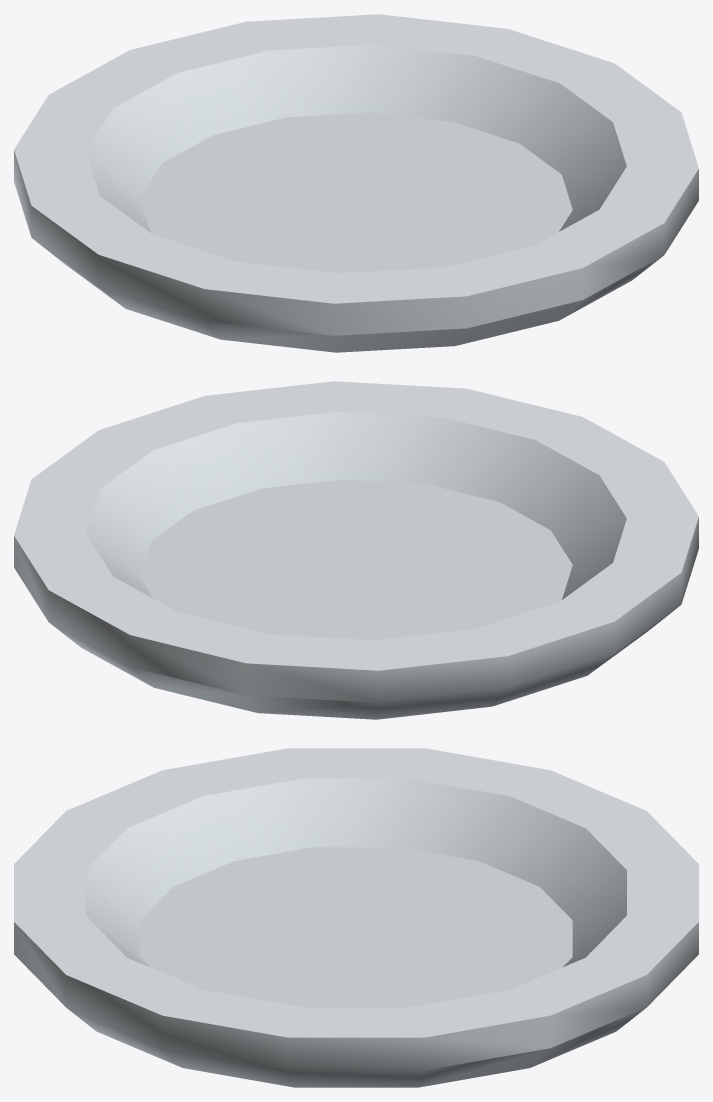
File: plate.glb
The picture shows the model from 3 angles, top to bottom: view 1: azimuth 30°, elevation 25°; view 2: azimuth 150°, elevation 25°; view 3: azimuth 270°, elevation 25°; orthographic projection.
Parts seen in each view (by area): view 1: plate_Cylinder.105; view 2: plate_Cylinder.105; view 3: plate_Cylinder.105.
Part boxes in pixels (left/top/right/bottom): plate_Cylinder.105: left=14, top=14, right=698, bottom=352; plate_Cylinder.105: left=14, top=381, right=698, bottom=719; plate_Cylinder.105: left=14, top=748, right=698, bottom=1087.
Bounding box in the file's own units: 0.95 × 0.1 × 0.95.
Materials: 1 (1 with a texture image).
